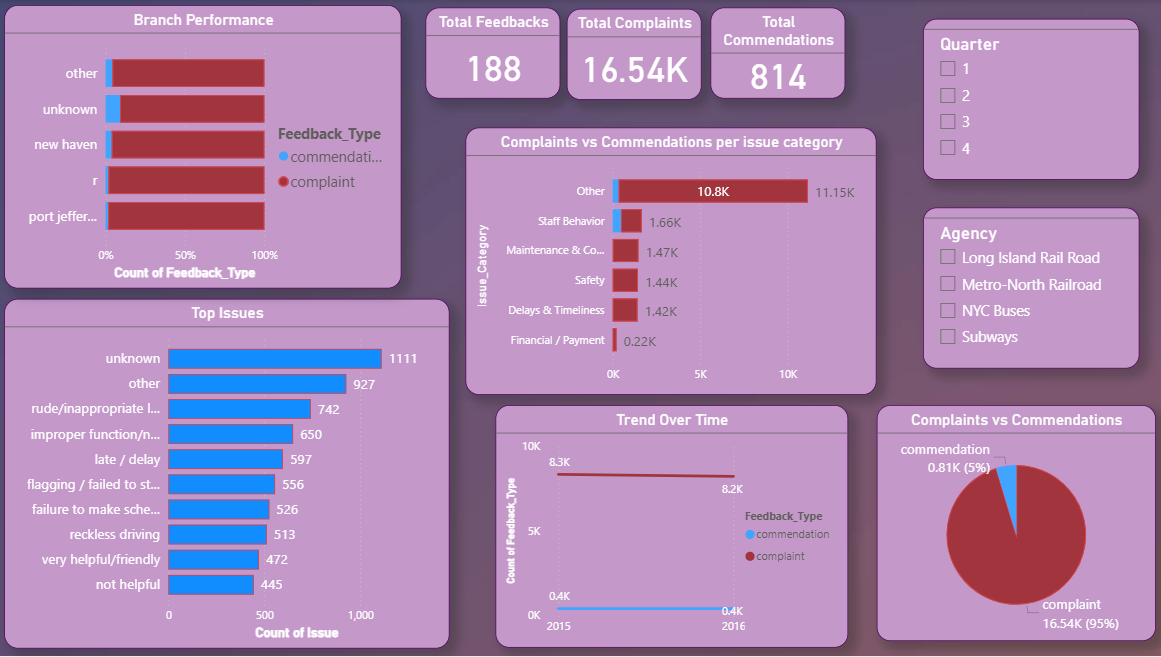

What the dashboard file says about the page in this screenshot:
{"tool":"powerbi","page":{"name":"Page 1","canvas":[1280,720],"ordinal":0},"visuals":[{"type":"pieChart","title":"Complaints vs Commendations","fields":{"Category":["cleaned_customer_feedback_dashboard.Feedback_Type"],"Y":["CountNonNull(cleaned_customer_feedback_dashboard.Feedback_Type)"]},"box":[964.7,444.6,306,259.3],"z":0},{"type":"clusteredBarChart","title":"Top Issues","fields":{"Y":["CountNonNull(cleaned_customer_feedback_dashboard.Issue)"],"Category":["cleaned_customer_feedback_dashboard.Issue"]},"box":[6.9,328,488.5,384.2],"z":1000},{"type":"barChart","title":"Complaints vs Commendations per issue category","fields":{"Category":["cleaned_customer_feedback_dashboard.Issue_Category"],"Series":["cleaned_customer_feedback_dashboard.Feedback_Type"],"Y":["CountNonNull(cleaned_customer_feedback_dashboard.Feedback_Type)"]},"box":[513.2,140,451.5,293.7],"z":2000},{"type":"hundredPercentStackedBarChart","title":"Branch Performance","fields":{"Category":["cleaned_customer_feedback_dashboard.Branch_Grouped"],"Series":["cleaned_customer_feedback_dashboard.Feedback_Type"],"Y":["CountNonNull(cleaned_customer_feedback_dashboard.Feedback_Type)"]},"box":[6.9,5.5,436.4,311.5],"z":3000},{"type":"lineChart","title":"Trend Over Time","fields":{"Category":["cleaned_customer_feedback_dashboard.Year"],"Y":["CountNonNull(cleaned_customer_feedback_dashboard.Feedback_Type)"],"Series":["cleaned_customer_feedback_dashboard.Feedback_Type"]},"box":[546.1,444.6,387,266.2],"z":4000},{"type":"card","title":"Total Feedbacks ","fields":{"Values":["Count(cleaned_customer_feedback_dashboard.Issue)"]},"box":[469.3,7.9,148.2,100.2],"z":4001},{"type":"card","title":"Total Complaints","fields":{"Values":["CountNonNull(cleaned_customer_feedback_dashboard.Feedback_Type)"]},"box":[624.4,9.2,148.2,100.2],"z":4002},{"type":"card","title":"Total Commendations","fields":{"Values":["CountNonNull(cleaned_customer_feedback_dashboard.Feedback_Type)"]},"box":[782.2,7.9,148.2,100.2],"z":4003},{"type":"slicer","fields":{"Values":["cleaned_customer_feedback_dashboard.Agency"]},"box":[1015.4,227.8,237.4,177],"z":4004},{"type":"slicer","fields":{"Values":["cleaned_customer_feedback_dashboard.Quarter"]},"box":[1015.4,20.6,237.4,177],"z":4005}]}

Visuals, with their boxes in screenshot pixels (x1, y1, x2, y2), scaled from the page's 1280x720 canvas onto the 1161x657 screenshot:
"Complaints vs Commendations" pieChart: 875/406/1153/642
"Top Issues" clusteredBarChart: 6/299/449/650
"Complaints vs Commendations per issue category" barChart: 465/128/875/396
"Branch Performance" hundredPercentStackedBarChart: 6/5/402/289
"Trend Over Time" lineChart: 495/406/846/649
"Total Feedbacks " card: 426/7/560/99
"Total Complaints" card: 566/8/701/100
"Total Commendations" card: 709/7/844/99
slicer - cleaned_customer_feedback_dashboard.Agency: 921/208/1136/369
slicer - cleaned_customer_feedback_dashboard.Quarter: 921/19/1136/180
